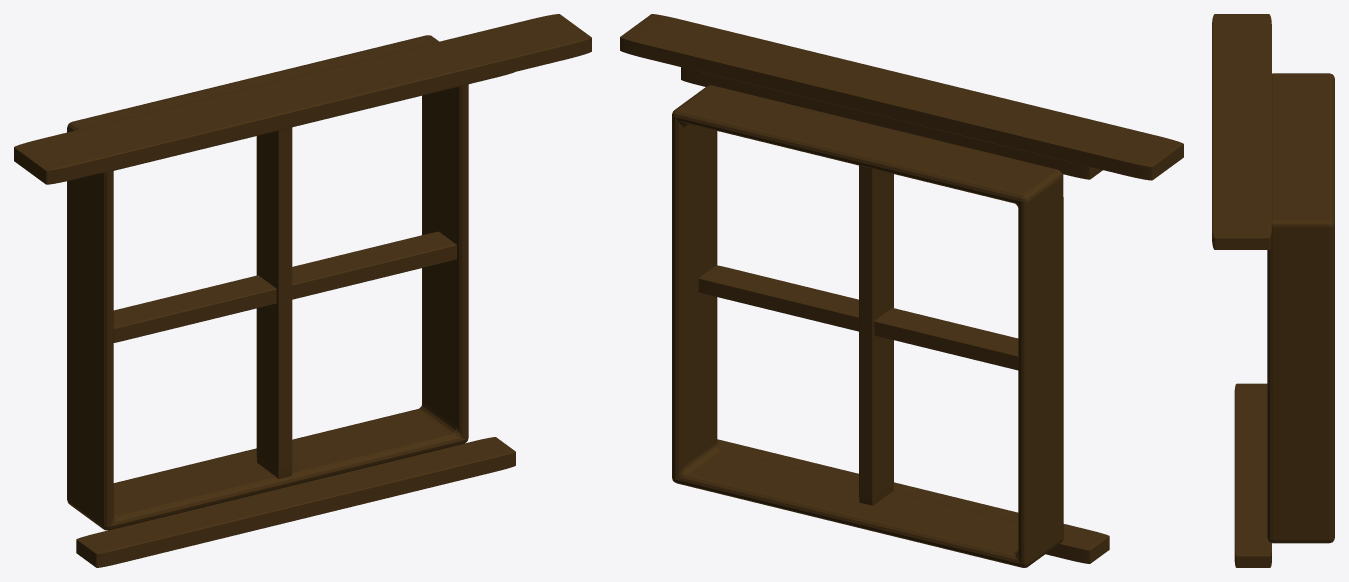
Rendered from Window04.fbx.
3 renders of one model, left to right at view 1: azimuth 30°, elevation 25°; view 2: azimuth 150°, elevation 25°; view 3: azimuth 270°, elevation 25°, orthographic. The views are drawn at different scales.
Visible parts, largest first — view 1: WindowFrame04, WindowFrame01.002, WindowFrame04.001, WindowFrame01, WindowFrame03, WindowFrame04.002, WindowFrame02; view 2: WindowFrame04, WindowFrame04.001, WindowFrame01.002, WindowFrame03, WindowFrame04.002, WindowFrame01.001, WindowFrame01, WindowFrame02; view 3: WindowFrame04, WindowFrame04.001, WindowFrame01.002, WindowFrame01, WindowFrame02.
Boxes of the visible parts, box(x1,y1,x2,y2) form: WindowFrame04: box(67, 35, 468, 530); WindowFrame01.002: box(14, 14, 591, 184); WindowFrame04.001: box(67, 35, 468, 530); WindowFrame01: box(76, 437, 515, 567); WindowFrame03: box(256, 127, 292, 478); WindowFrame04.002: box(113, 231, 456, 342); WindowFrame02: box(85, 440, 513, 567); WindowFrame04: box(672, 85, 1063, 567); WindowFrame04.001: box(672, 85, 1063, 563); WindowFrame01.002: box(620, 14, 1183, 180); WindowFrame03: box(859, 165, 893, 505); WindowFrame04.002: box(698, 265, 1018, 370); WindowFrame01.001: box(681, 67, 1102, 179); WindowFrame01: box(717, 439, 1109, 563); WindowFrame02: box(718, 439, 1109, 560); WindowFrame04: box(1267, 73, 1334, 543); WindowFrame04.001: box(1267, 73, 1334, 543); WindowFrame01.002: box(1212, 14, 1271, 249); WindowFrame01: box(1234, 383, 1271, 567); WindowFrame02: box(1234, 383, 1271, 567).
Bounding box in the file's own units: 83.56 × 61.92 × 19.33.
